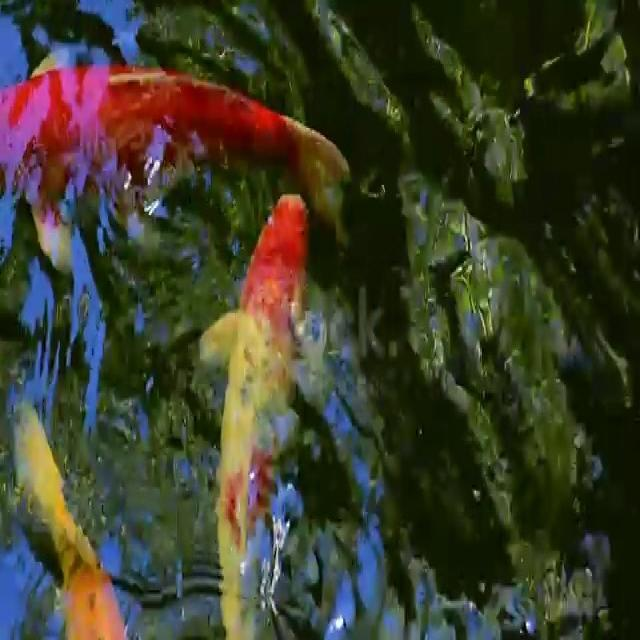fish: (0, 45, 368, 270), (202, 172, 332, 640), (11, 389, 130, 640)
